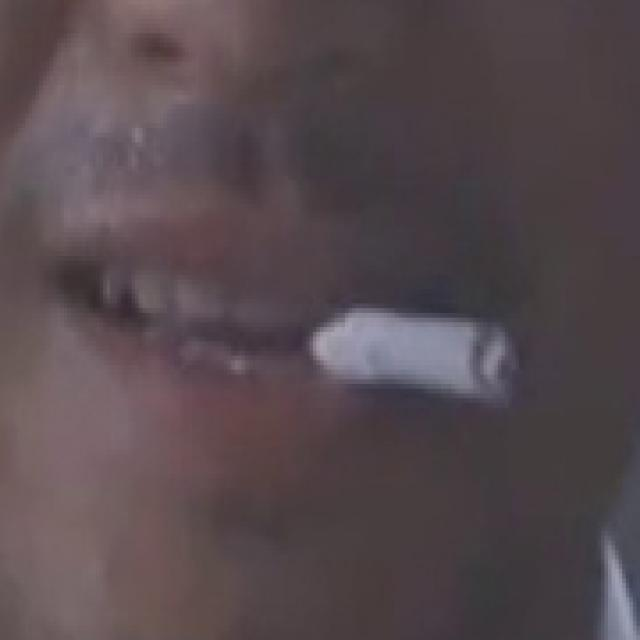smoking: (308, 301, 515, 406)
